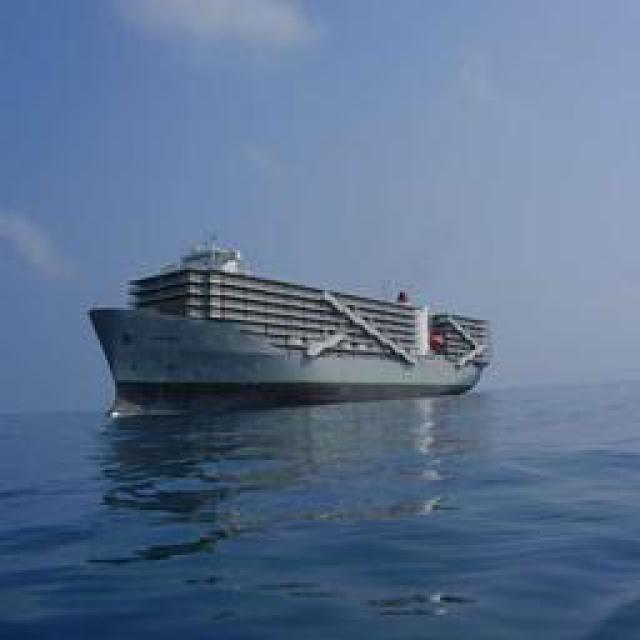Ship: (88, 286, 486, 406)
